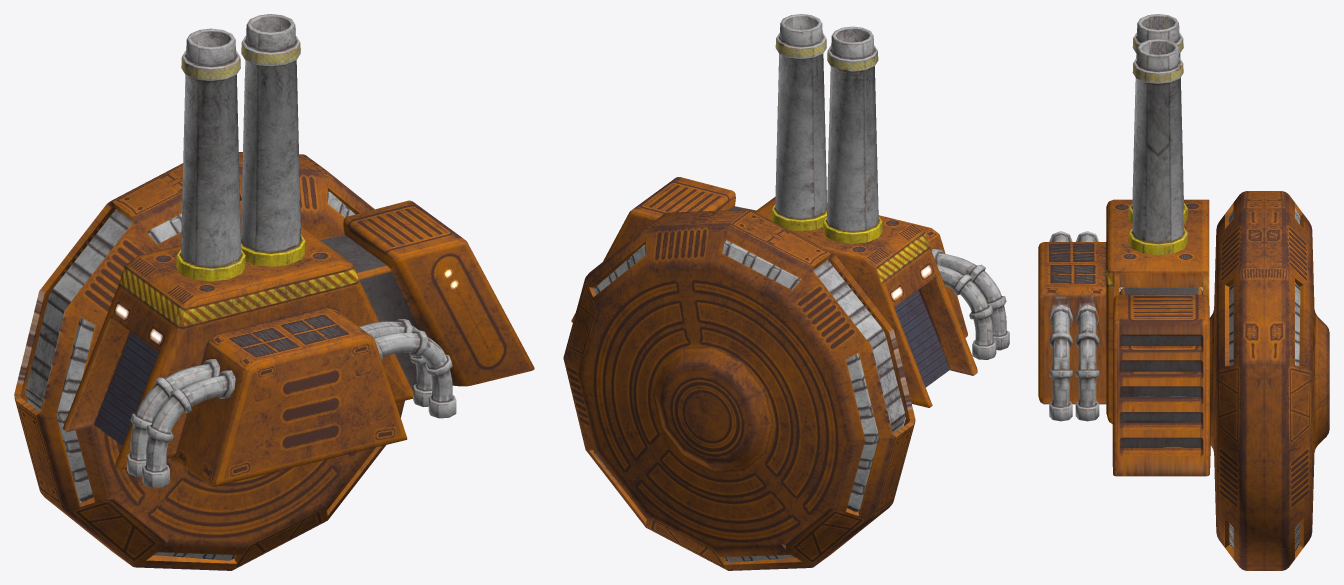
The model's file is power_generator.glb.
The picture shows the model from 3 angles, left to right: view 1: azimuth 30°, elevation 25°; view 2: azimuth 150°, elevation 25°; view 3: azimuth 270°, elevation 25°; orthographic projection. The views are drawn at different scales.
Visible parts, largest first — view 1: Plane.010, Cylinder.022, Cube.009, Plane.008; view 2: Cylinder.022, Plane.010, Cube.009, Plane.008; view 3: Plane.010, Cylinder.022, Cube.009.
Boxes of the visible parts, bbox=[...] form: Plane.010: bbox=[62, 14, 534, 488]; Cylinder.022: bbox=[14, 152, 404, 570]; Cube.009: bbox=[25, 191, 376, 560]; Plane.008: bbox=[94, 332, 158, 445]; Cylinder.022: bbox=[563, 209, 915, 570]; Plane.010: bbox=[571, 14, 1009, 407]; Cube.009: bbox=[593, 240, 905, 562]; Plane.008: bbox=[894, 290, 950, 387]; Plane.010: bbox=[1038, 14, 1210, 476]; Cylinder.022: bbox=[1209, 191, 1329, 570]; Cube.009: bbox=[1229, 208, 1300, 551].
Bounding box in the file's own units: 0.6328 × 0.8396 × 0.4415.
Materials: 1 (1 with a texture image).
